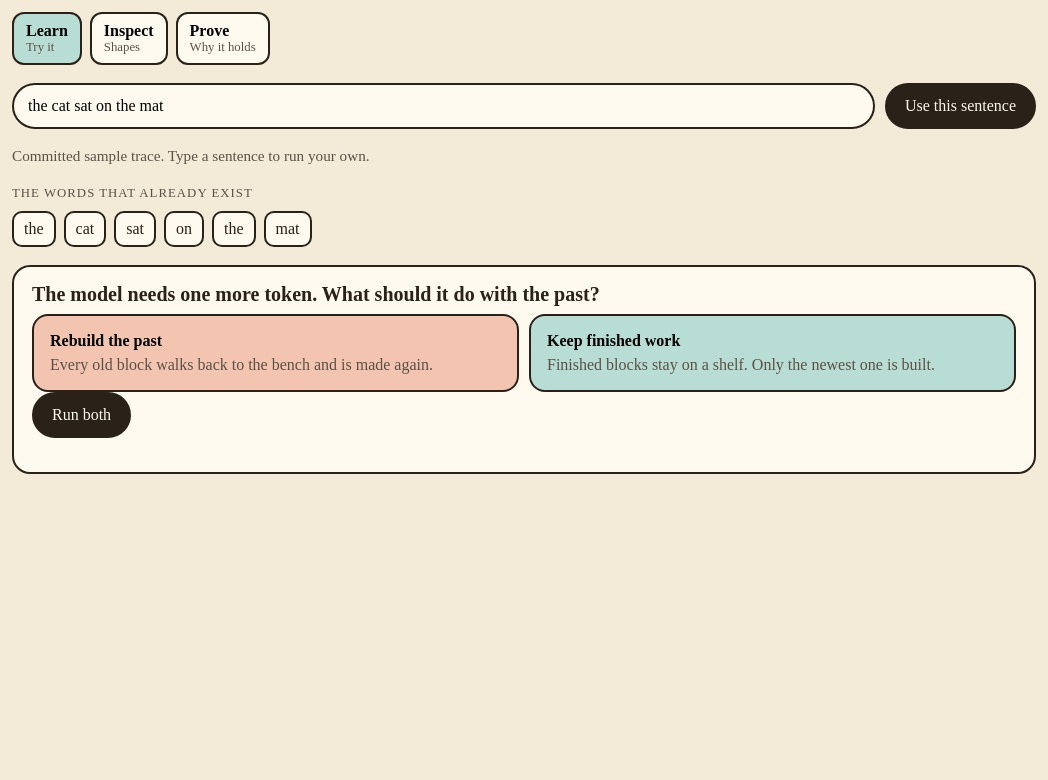
Test: experiment 01 playground › Run both uses the same prompt on both sides
Click the button "Run both": [82, 415] box 32,392 -> 131,438
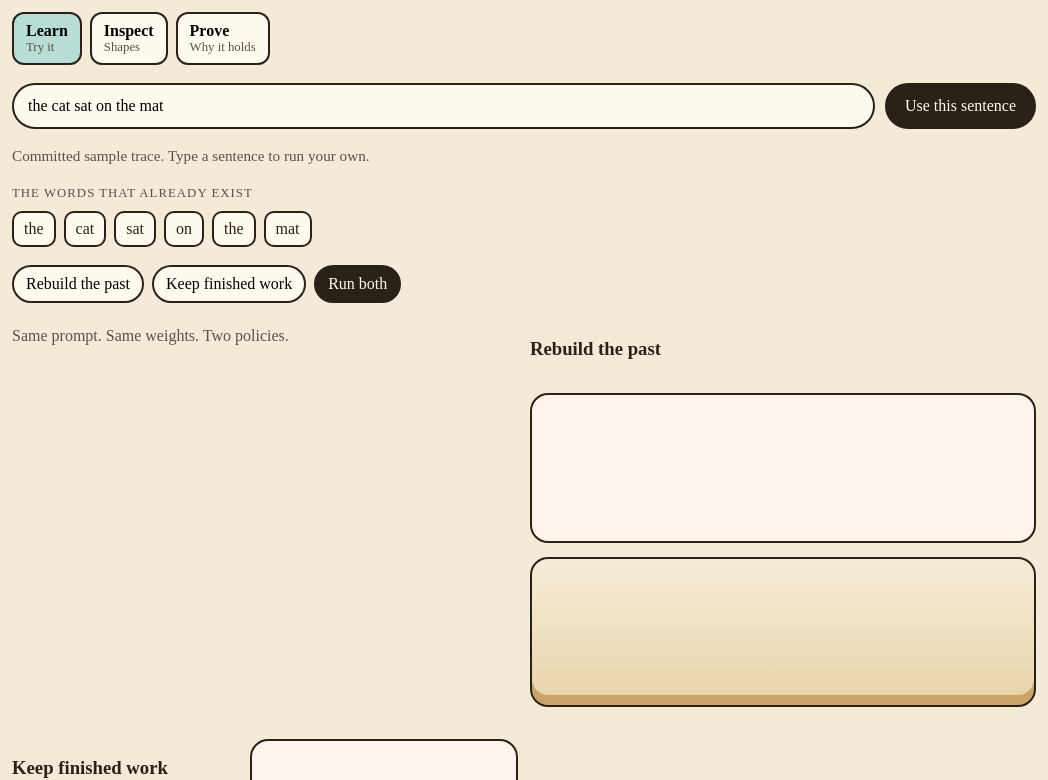
Expected: the text "Same prompt. Same weights. Two policies." is shown, 12,327 -> 289,344
